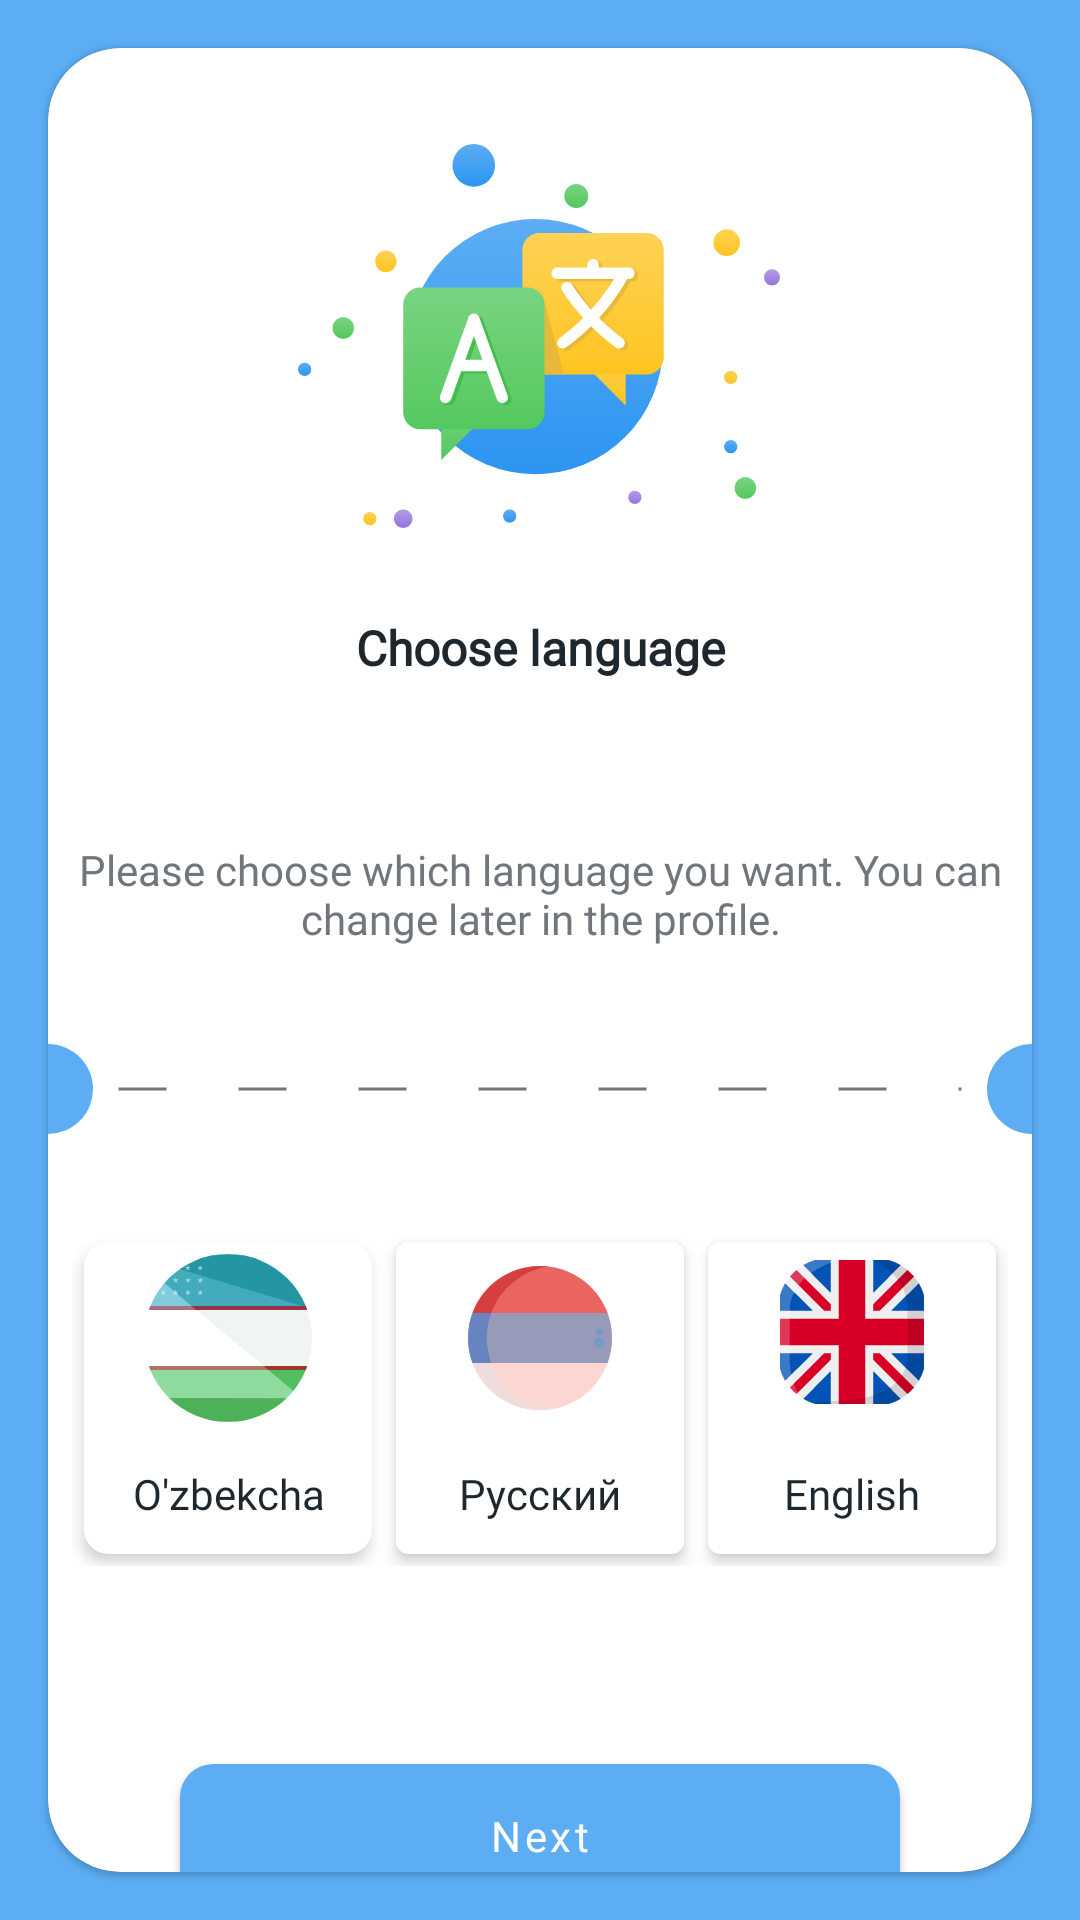

Screen size 1080w x 1920h. Icon name, then its center in pixels as (x=x, y=y):
russian: (x=540, y=1338)
uzb: (x=228, y=1338)
